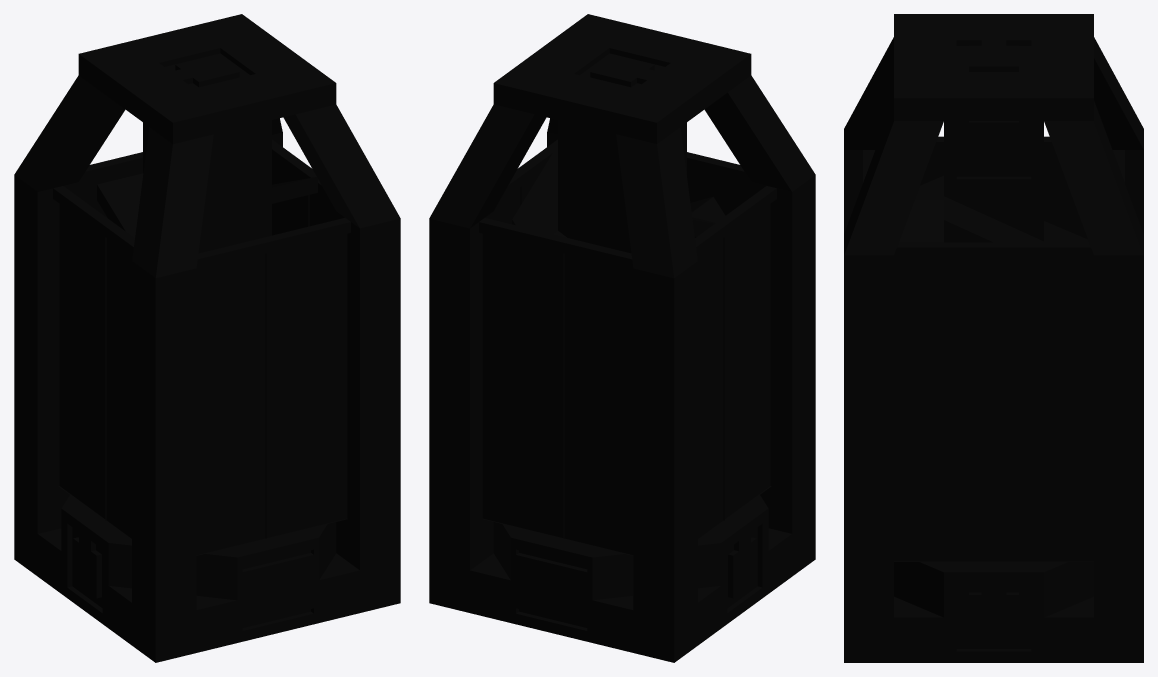
Rendered from gravityseparator.obj.
3 renders of one model, left to right at view 1: azimuth 30°, elevation 25°; view 2: azimuth 150°, elevation 25°; view 3: azimuth 270°, elevation 25°, orthographic. The views are drawn at different scales.
Visible parts, largest first — view 1: cube_selection; view 2: cube_selection; view 3: cube_selection.
Boxes of the visible parts, x1,y1,x2,y2 form: cube_selection: (14, 14, 400, 662); cube_selection: (429, 14, 815, 662); cube_selection: (844, 14, 1143, 662).
Bounding box in the file's own units: 3 × 6 × 3.
